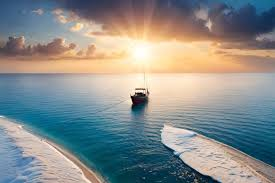boat: (130, 85, 151, 105)
